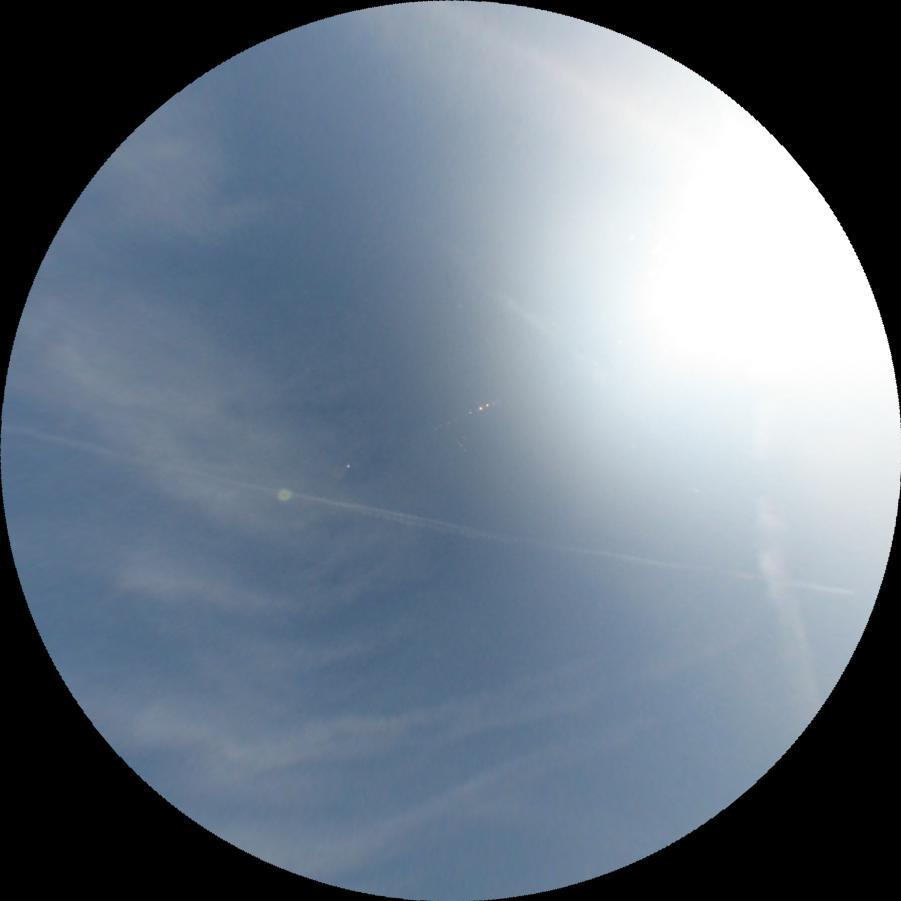contrail old: (0, 421, 853, 614)
contrail veryold: (253, 589, 780, 799), (742, 488, 832, 731)
